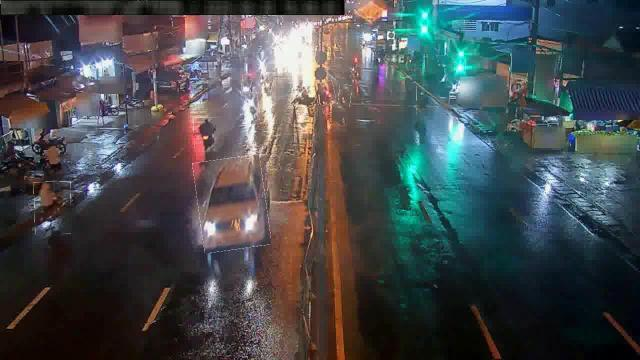Bike: (34, 182, 72, 234), (194, 118, 223, 148), (292, 88, 316, 108), (315, 81, 335, 105), (247, 92, 260, 120), (417, 86, 429, 115), (338, 84, 352, 108), (241, 74, 251, 96), (263, 72, 273, 94)
Car: (196, 156, 268, 252)
